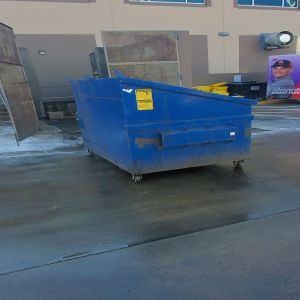Dumpster: (70, 79, 256, 183)
